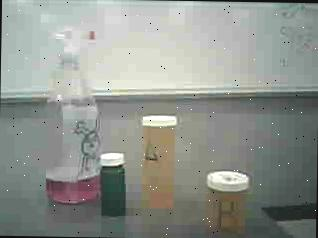Bottle A: (134, 113, 180, 213)
Bottle B: (201, 167, 256, 238)
Bottle C: (100, 151, 128, 216)
hazard: (39, 23, 106, 203)
